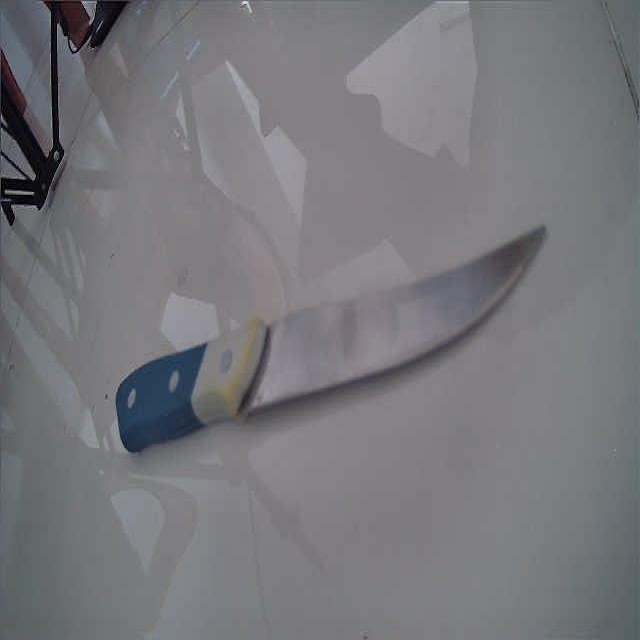knife: (115, 223, 550, 453)
